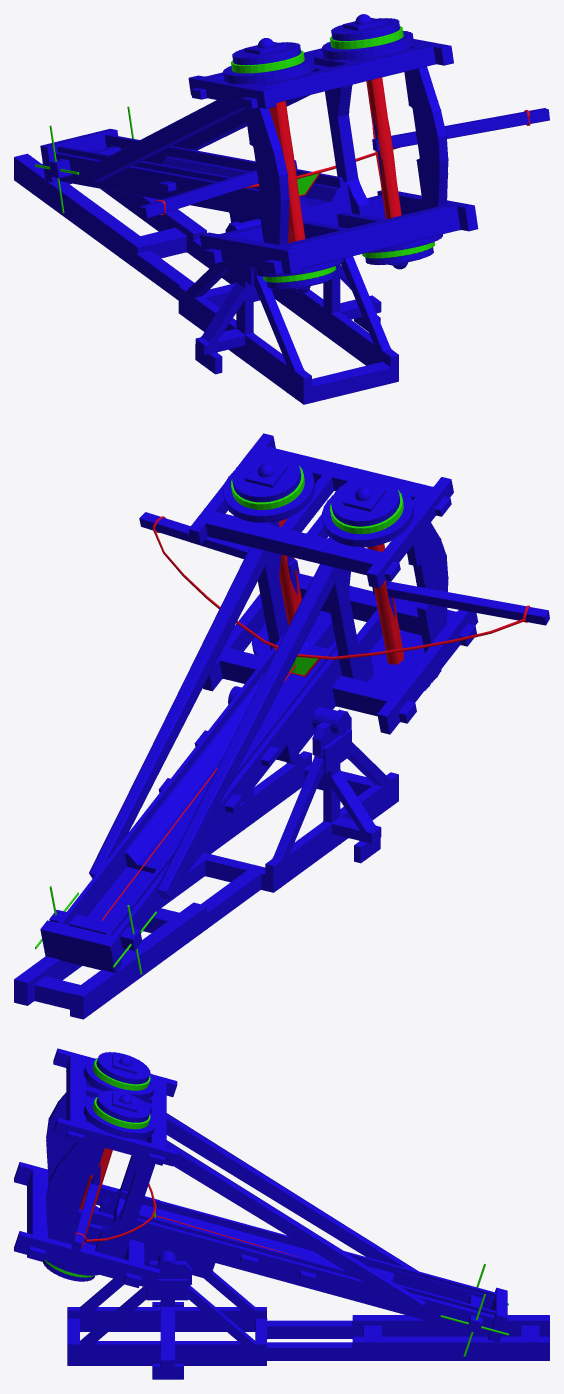
Rendered from Ranged_Siege.fbx.
The picture shows the model from 3 angles, top to bottom: view 1: azimuth 30°, elevation 25°; view 2: azimuth 150°, elevation 25°; view 3: azimuth 270°, elevation 25°; orthographic projection. The views are drawn at different scales.
Visible parts, largest first — view 1: Cylinder.003; view 2: Cylinder.003; view 3: Cylinder.003.
Part boxes in pixels (<box>): Cylinder.003: <box>14,14,549,404</box>; Cylinder.003: <box>14,433,549,1019</box>; Cylinder.003: <box>14,1048,549,1379</box>.
Bounding box in the file's own units: 897 × 718 × 1286.
